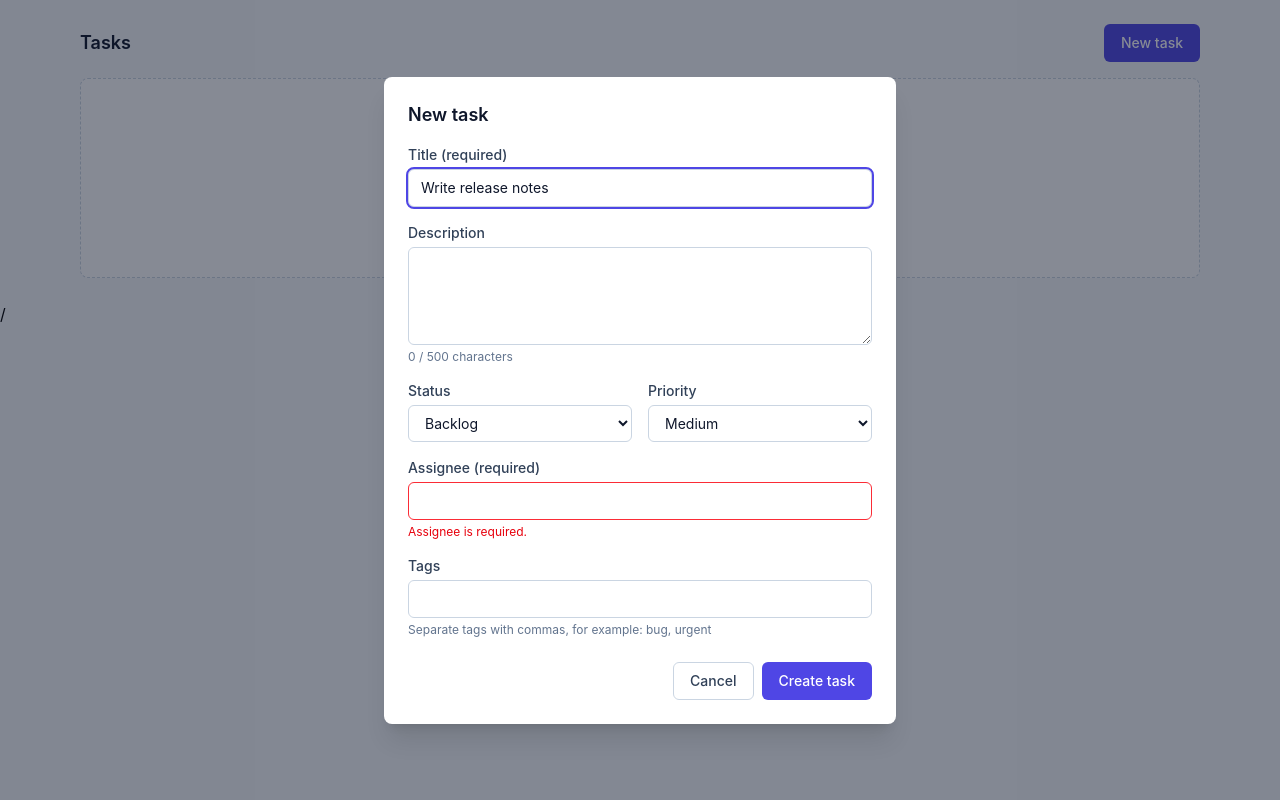
creating a task › validates the form, saves the task, and shows the card in the chosen column
Earlier steps of the test are not shown.
Click the button "Create task" at (817, 680), box top-left (762, 662), bottom-right (872, 700)
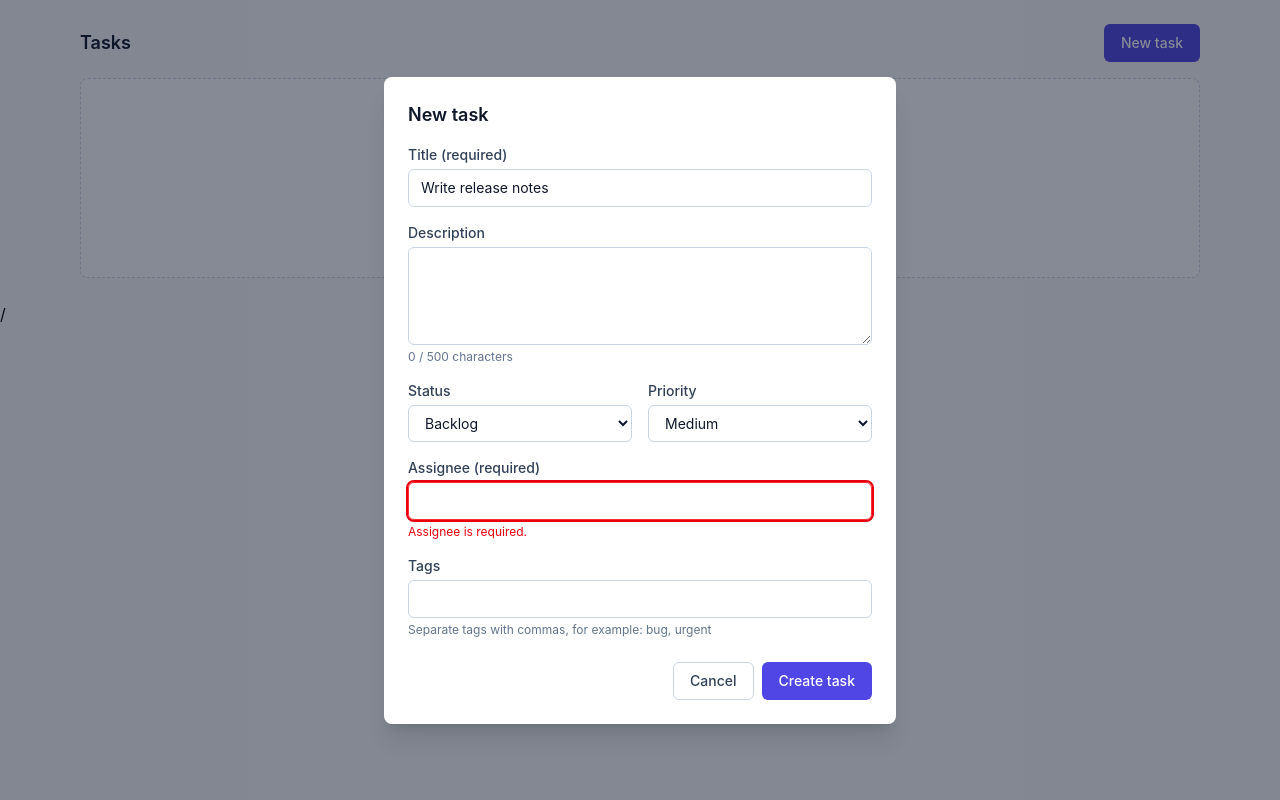
// Fill in the rest and save.
Type "Priya" into the field labelled "Assignee (required)" at (640, 500), box top-left (408, 482), bottom-right (872, 520)
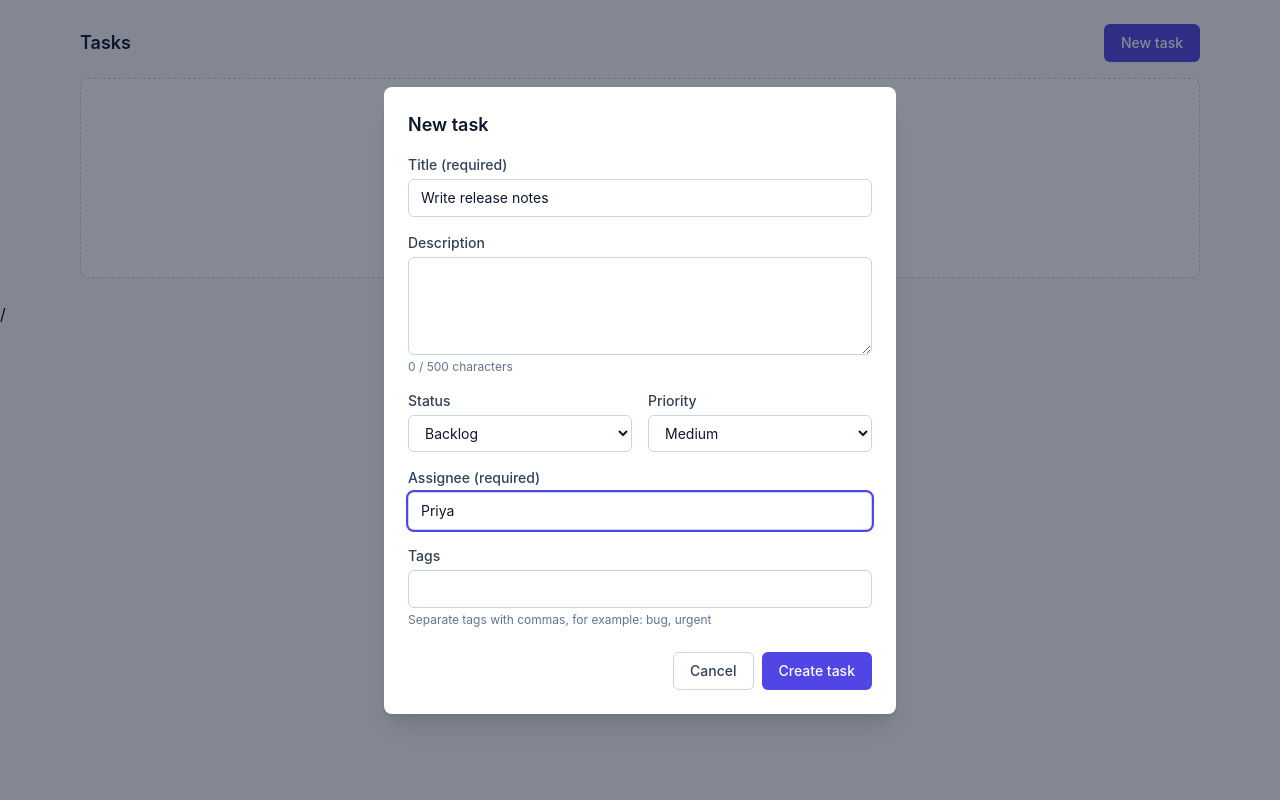
Select "In Progress" in the dropdown labelled "Status" at (520, 433), box top-left (408, 414), bottom-right (632, 452)
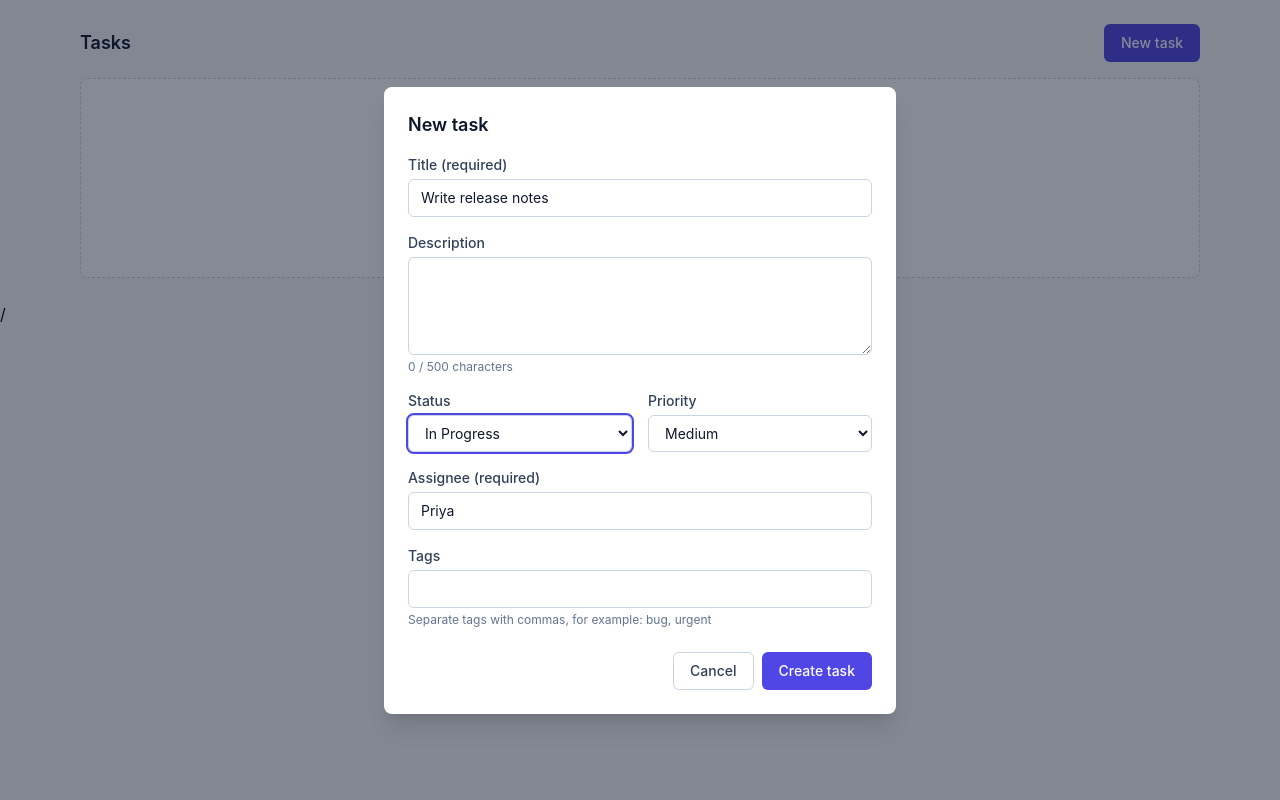
Select "High" in the dropdown labelled "Priority" at (760, 433), box top-left (648, 414), bottom-right (872, 452)
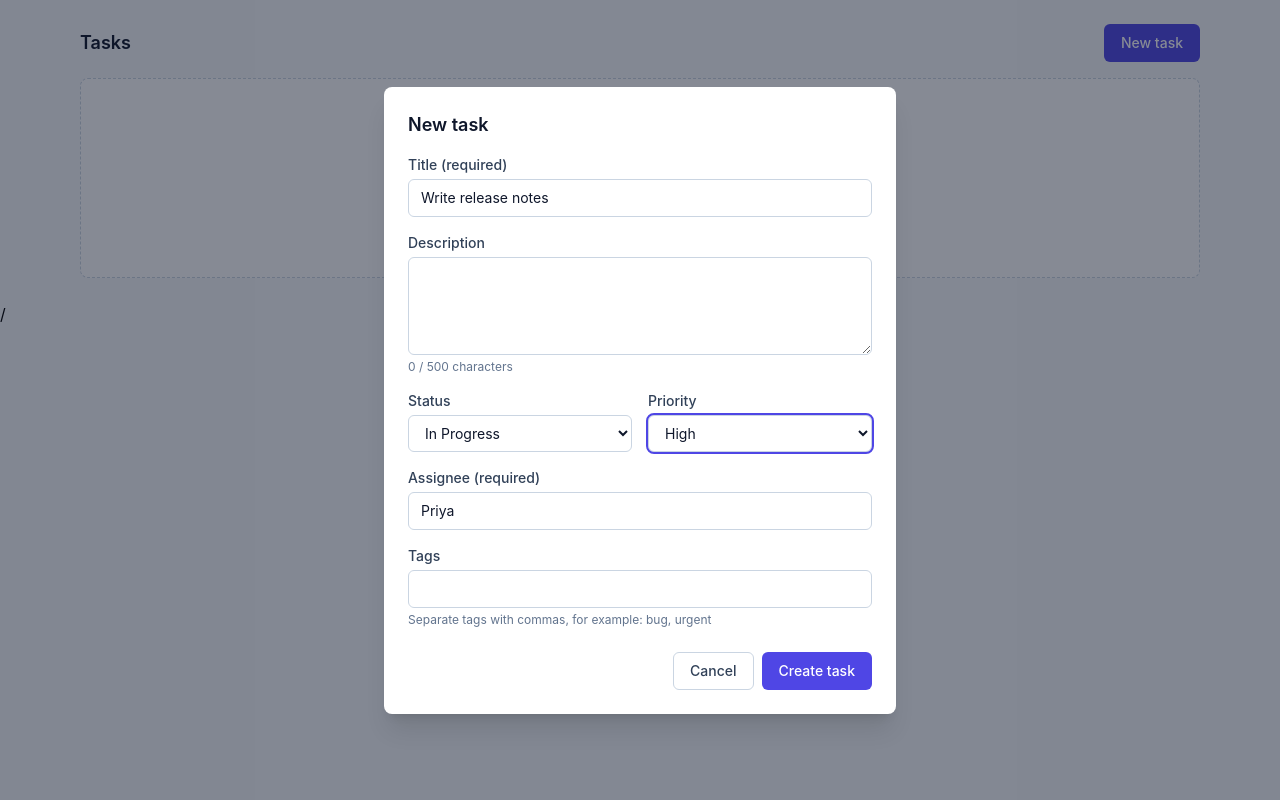
Type "bug, UI, bug" into the field labelled "Tags" at (640, 588), box top-left (408, 570), bottom-right (872, 608)
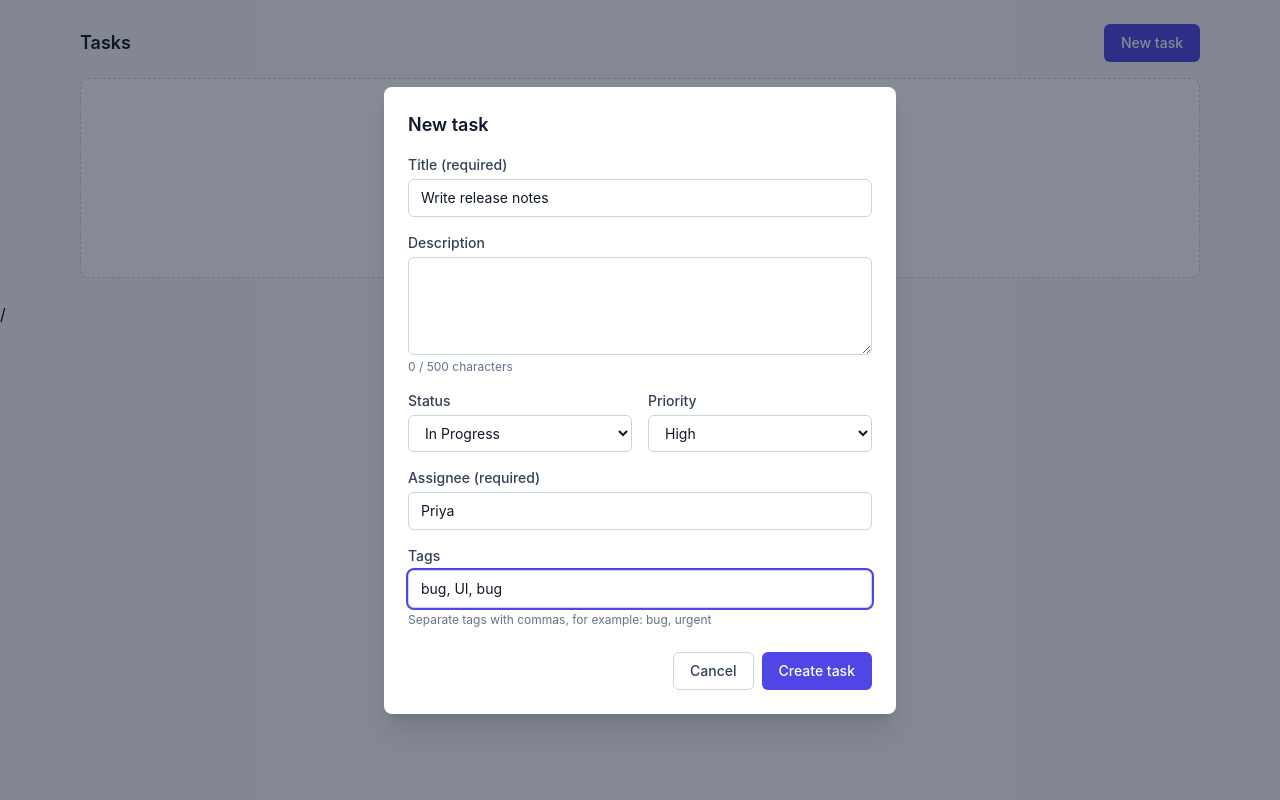
Click the button "Create task" at (817, 670), box top-left (762, 652), bottom-right (872, 690)
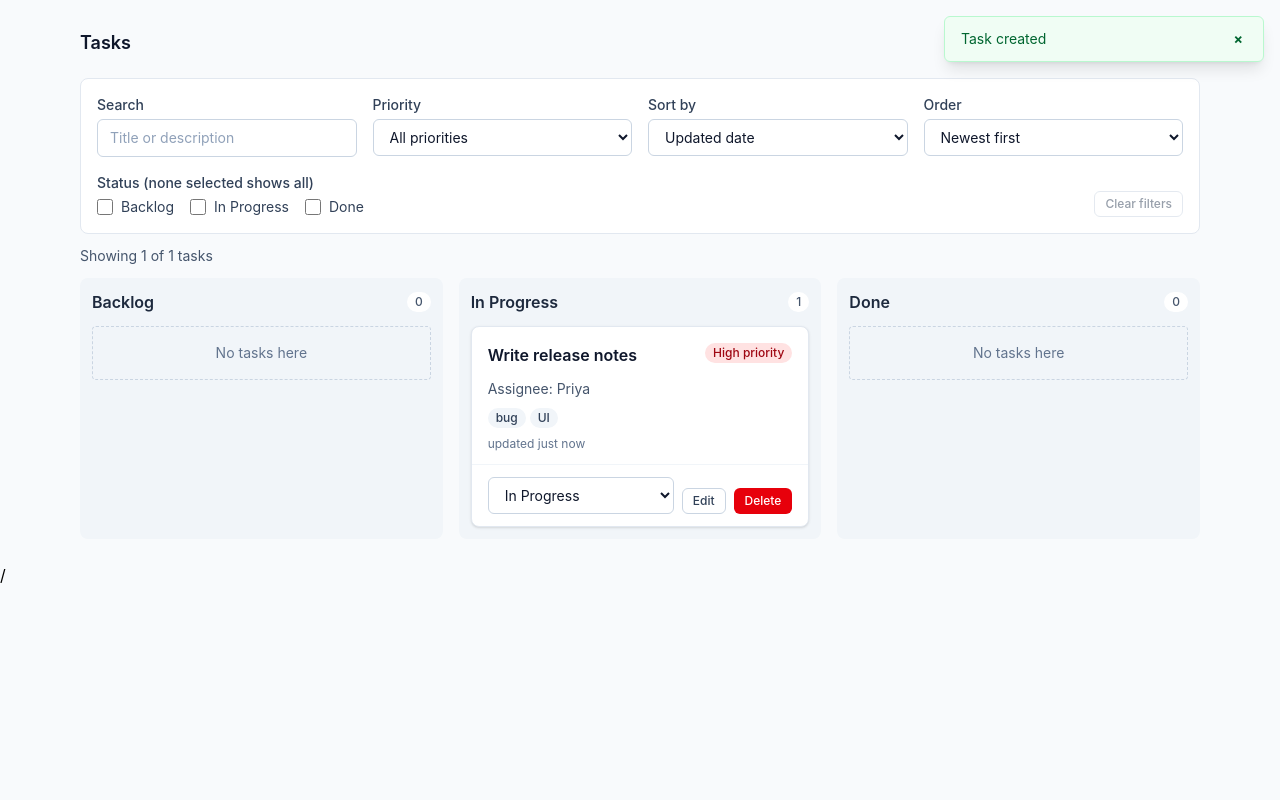
expect the dialog is gone: met
expect the text "Task created" is shown: met, box top-left (961, 30), bottom-right (1046, 47)
expect the heading "Write release notes" is shown: met, box top-left (488, 343), bottom-right (637, 367)
